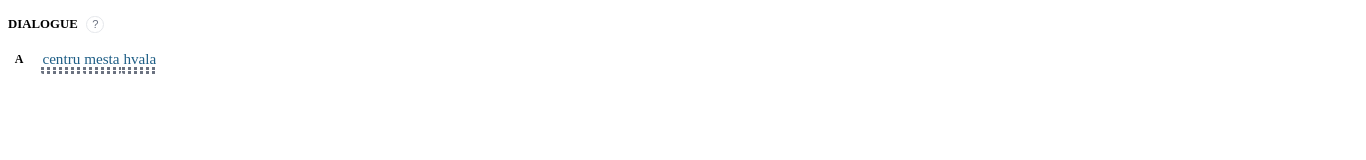
Test: Transcript › phrase creation — "+ New phrase" toggle and drag › ✨ button is disabled while loading
Press the mouse on the button "centru": x=61, y=62 41,50 -> 81,74
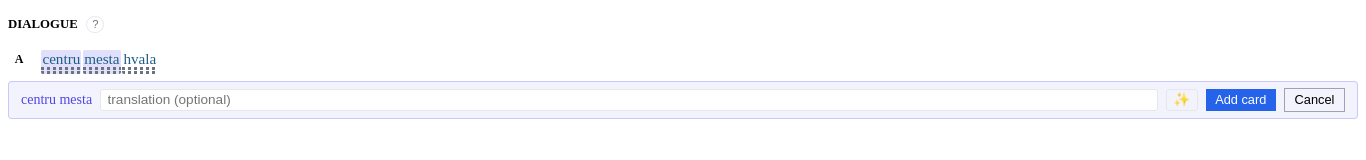
Click the button "✨": x=1182, y=100 1166,89 -> 1198,111
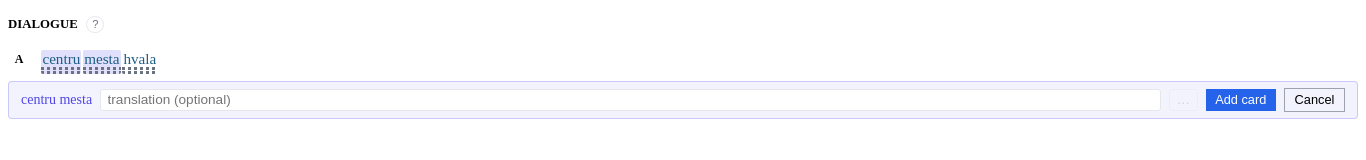
Expected: the button "…" is disabled, 1169,89 -> 1198,111
Expected: the button "…" is shown, 1169,89 -> 1198,111
